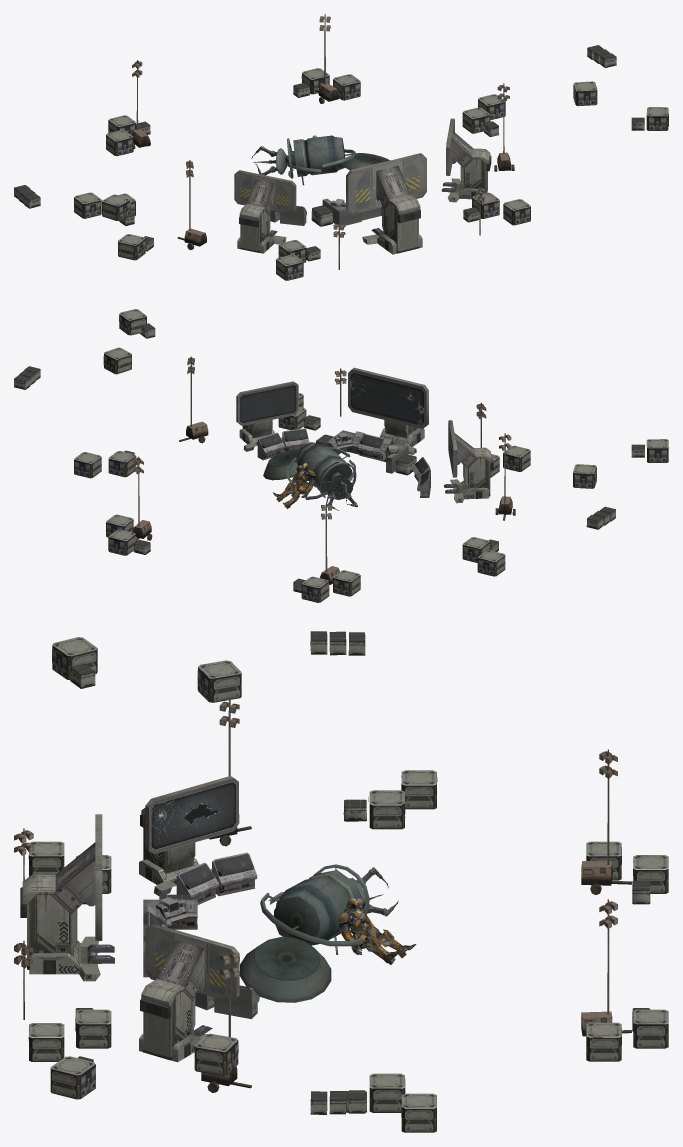
Rendered from Building_JzDaoju_2048_lod1.glb.
3 renders of one model, top to bottom at view 1: azimuth 30°, elevation 25°; view 2: azimuth 150°, elevation 25°; view 3: azimuth 270°, elevation 25°, orthographic. The views are drawn at different scales.
Visible parts, largest first — view 1: saibt_jz_daoju_lod1; view 2: saibt_jz_daoju_lod1; view 3: saibt_jz_daoju_lod1.
Boxes of the visible parts, box(x1,y1,x2,y2) form: saibt_jz_daoju_lod1: box(14, 14, 668, 280); saibt_jz_daoju_lod1: box(14, 309, 668, 602); saibt_jz_daoju_lod1: box(14, 631, 668, 1132).
Bounding box in the file's own units: 93.58 × 12.92 × 55.19.
Materials: 1 (1 with a texture image).
